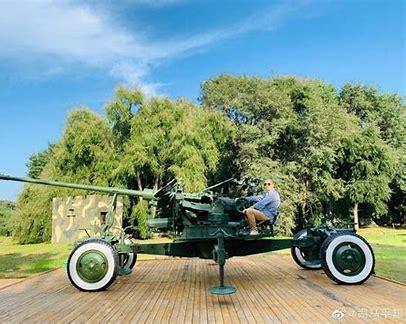MIL_SPG: (0, 175, 374, 294)
